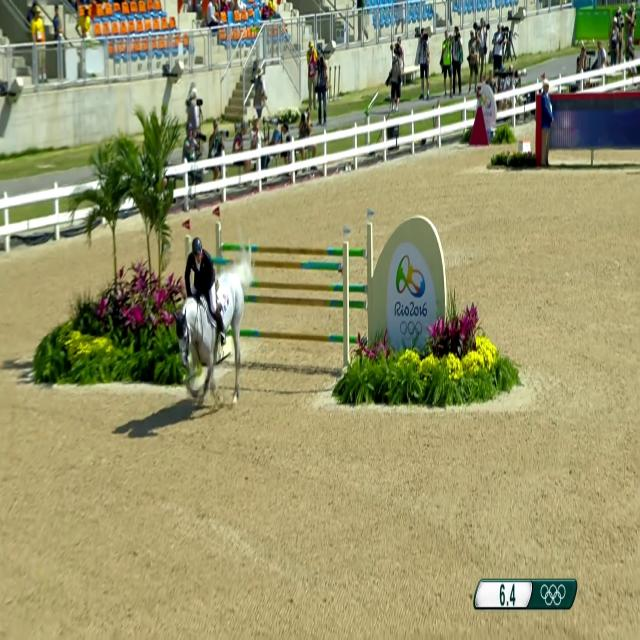Horse Jumping: (166, 215, 263, 425)
